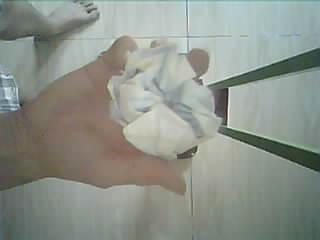paper: (109, 42, 221, 159)
